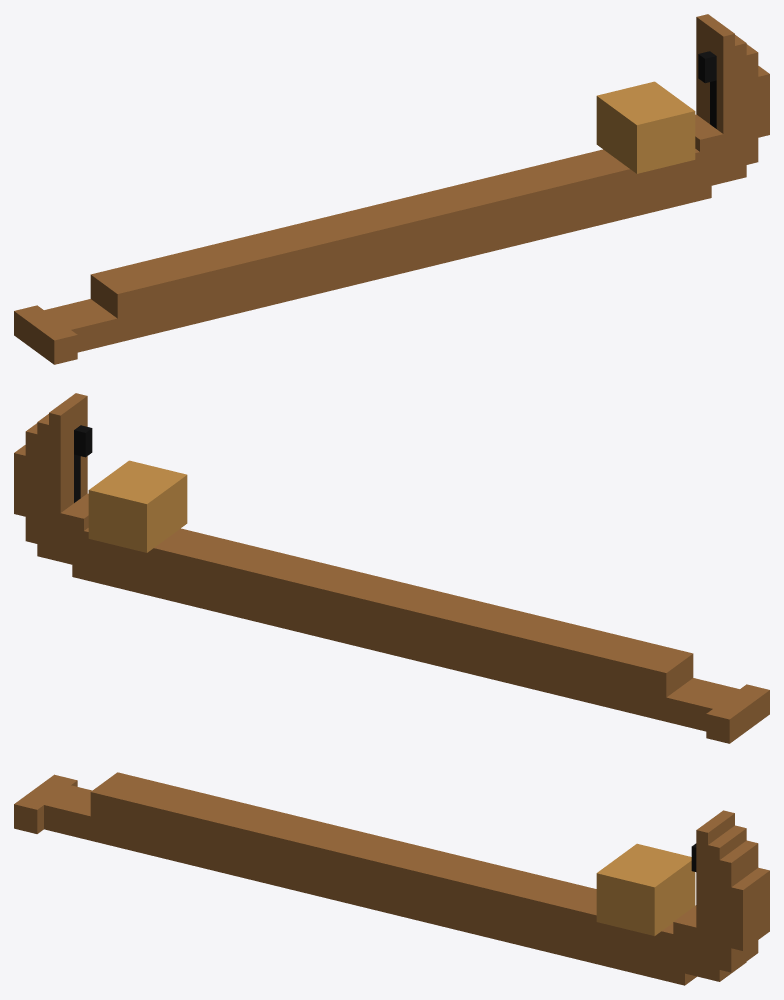
The model's file is nail_puller_bronze.glb.
3 views of the same model, one above another, from view 1: azimuth 30°, elevation 25°; view 2: azimuth 150°, elevation 25°; view 3: azimuth 330°, elevation 25° (orthographic).
Visible parts, largest first — view 1: nail_puller_bronze:compound; view 2: nail_puller_bronze:compound; view 3: nail_puller_bronze:compound.
Boxes of the visible parts, bbox=[...] form: nail_puller_bronze:compound: bbox=[14, 14, 769, 364]; nail_puller_bronze:compound: bbox=[14, 393, 769, 743]; nail_puller_bronze:compound: bbox=[14, 772, 769, 985].
Size of the model in its own units: 0.248 by 0.052 by 0.024.
